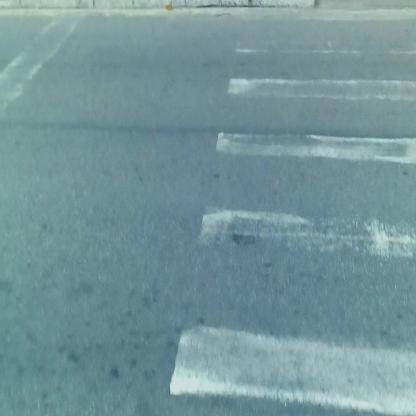crosswalk: (194, 15, 416, 416)
